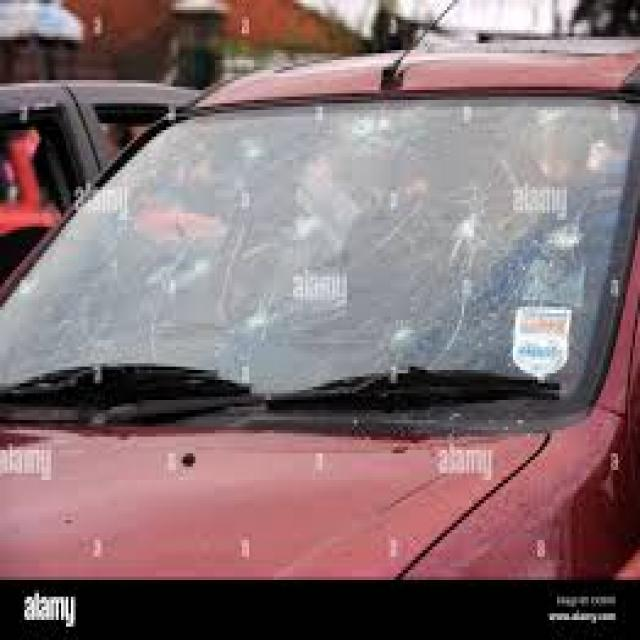damaged-windscreen: (12, 98, 640, 410)
